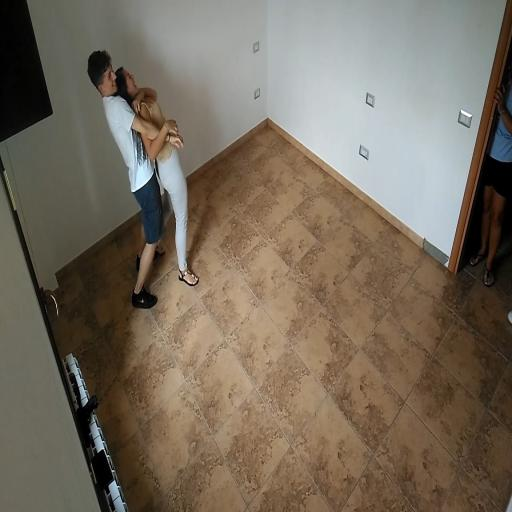violencia: (72, 37, 212, 320)
